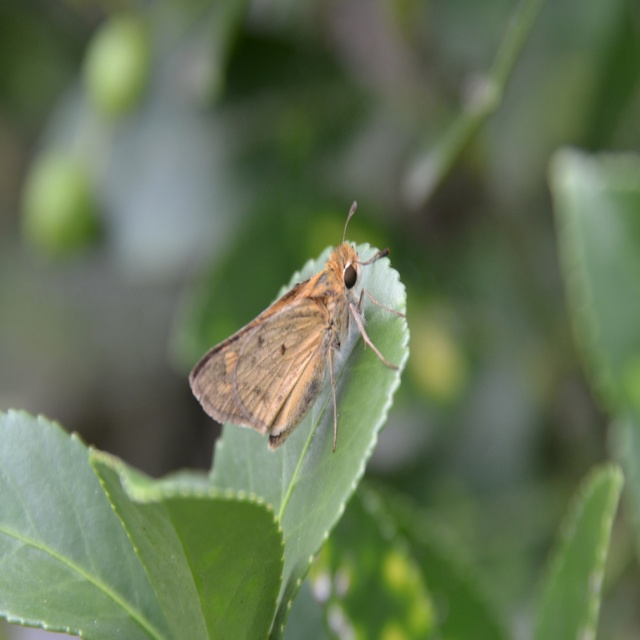Butterfly: (186, 239, 360, 459)
